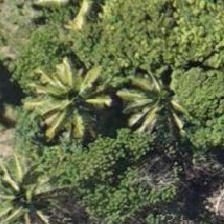coconut_tree: (22, 51, 112, 141), (0, 147, 66, 223)
